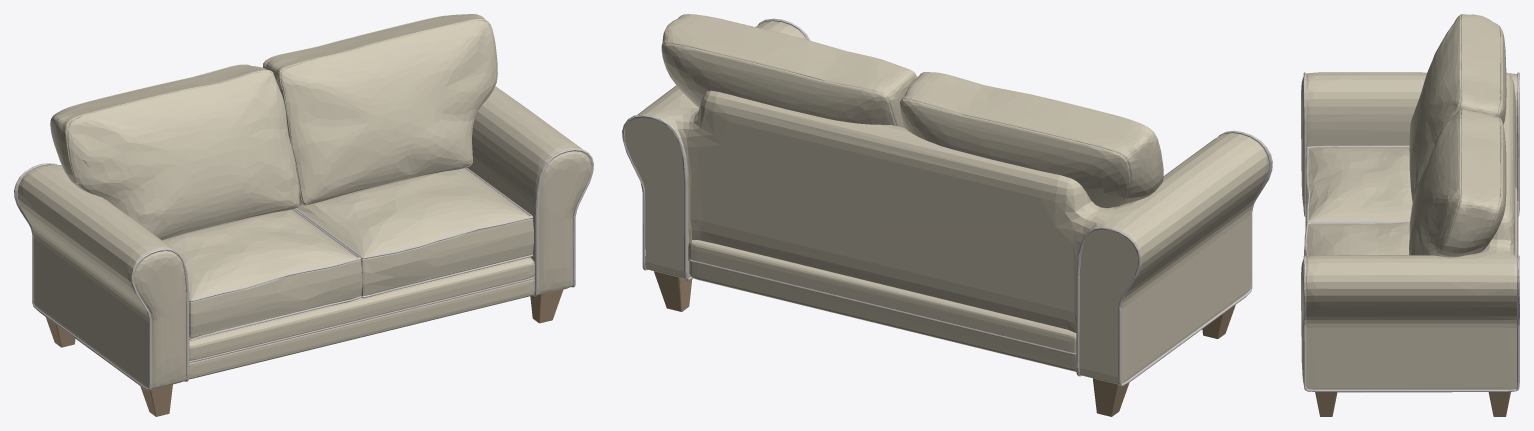
File: b0-sofa2.glb
3 views of the same model, side by side, from view 1: azimuth 30°, elevation 25°; view 2: azimuth 150°, elevation 25°; view 3: azimuth 270°, elevation 25° (orthographic). The views are drawn at different scales.
Visible parts, largest first — view 1: Sofa; view 2: Sofa; view 3: Sofa.
Boxes of the visible parts, bbox=[...] form: Sofa: bbox=[14, 14, 593, 416]; Sofa: bbox=[622, 14, 1272, 416]; Sofa: bbox=[1301, 14, 1519, 416].
Bounding box in the file's own units: 1.67 × 0.848 × 0.7471.
